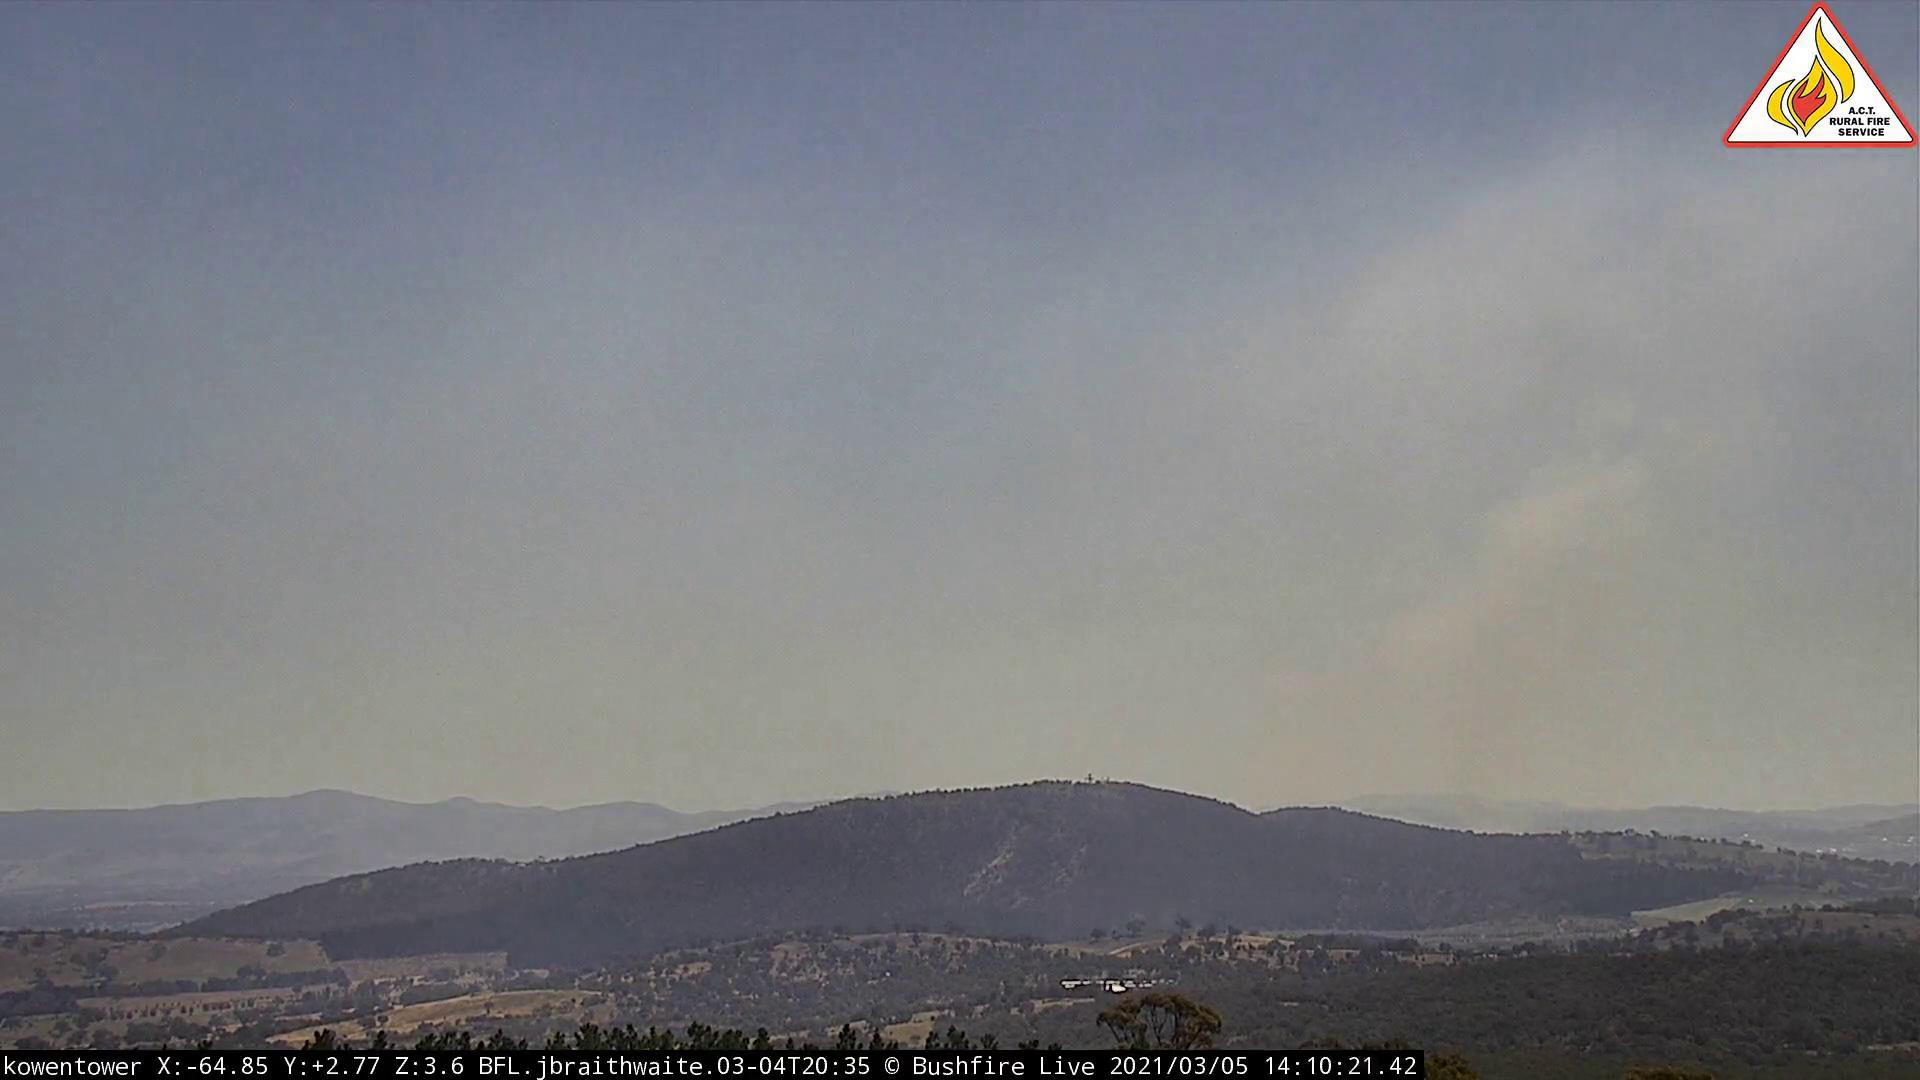Smoke: (1261, 419, 1706, 833)
